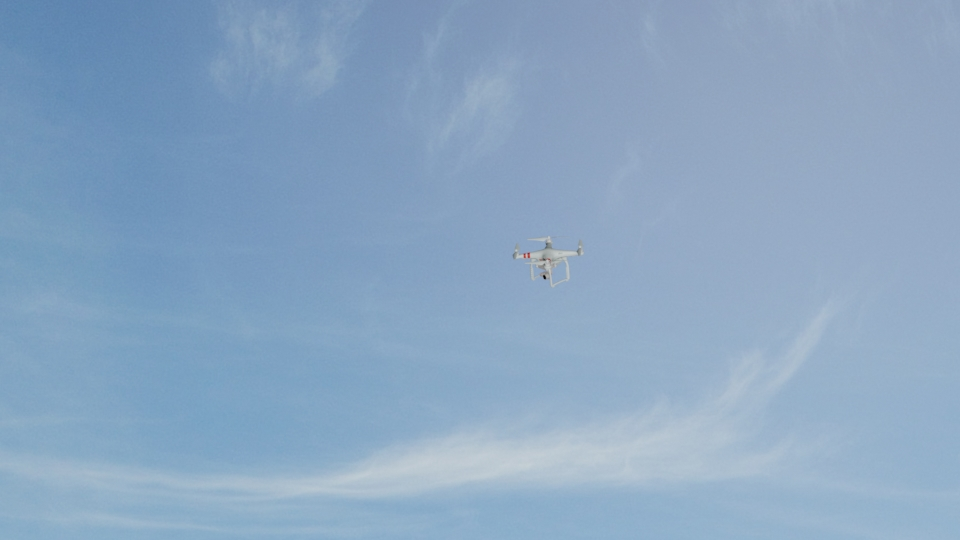drone: (508, 230, 588, 287)
